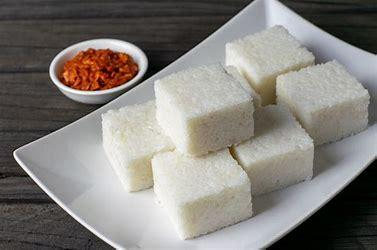Kiribath: (149, 29, 350, 238)
Lunu sambol: (40, 27, 140, 98)
